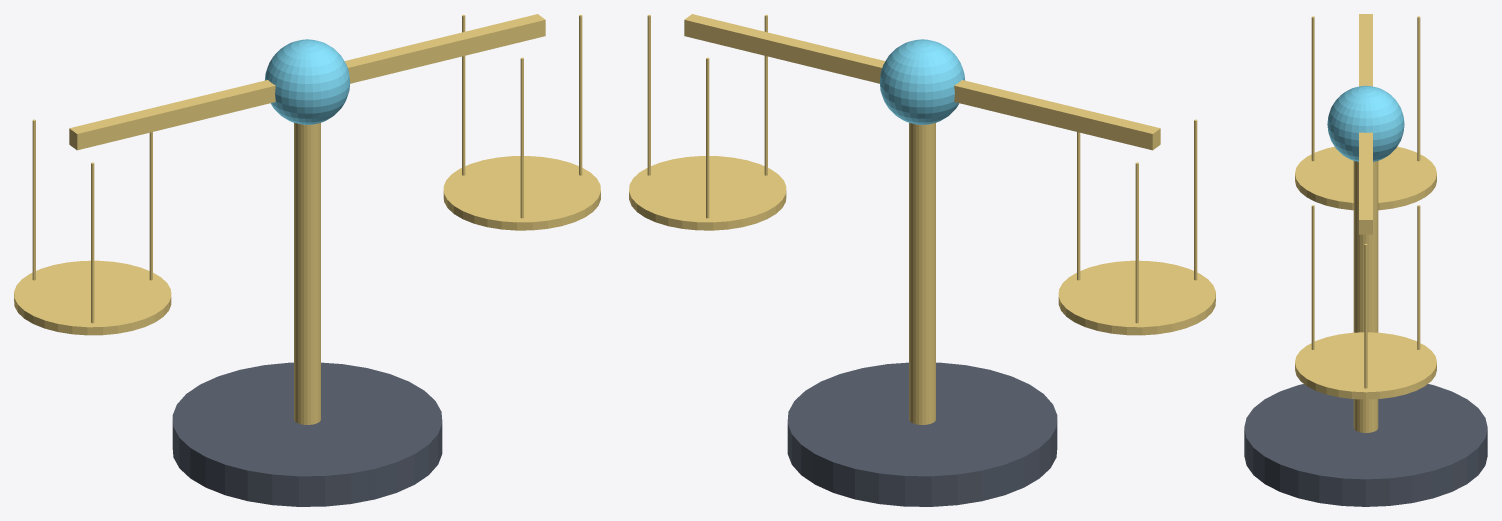
File: dissonance_scale.glb
The picture shows the model from 3 angles, left to right: view 1: azimuth 30°, elevation 25°; view 2: azimuth 150°, elevation 25°; view 3: azimuth 270°, elevation 25°; orthographic projection. The views are drawn at different scales.
Visible parts, largest first — view 1: Scale_Base, Balance_Beam, Pan_Belief, Pan_Behavior, Scale_Pillar, Fulcrum_Core, Chain_L_4.2, Chain_R_4.2, Chain_L_2.1, Chain_R_0.0; view 2: Scale_Base, Balance_Beam, Pan_Belief, Pan_Behavior, Scale_Pillar, Fulcrum_Core, Chain_L_2.1, Chain_R_2.1, Chain_L_4.2, Chain_R_0.0; view 3: Scale_Base, Pan_Behavior, Pan_Belief, Fulcrum_Core, Scale_Pillar, Balance_Beam, Chain_L_2.1, Chain_L_4.2, Chain_R_2.1, Chain_R_4.2, Chain_R_0.0.
Boxes of the visible parts, bbox=[...] form: Scale_Base: bbox=[172, 362, 442, 506]; Balance_Beam: bbox=[69, 14, 545, 150]; Pan_Belief: bbox=[14, 260, 171, 335]; Pan_Behavior: bbox=[443, 156, 600, 230]; Scale_Pillar: bbox=[294, 123, 320, 424]; Fulcrum_Core: bbox=[265, 39, 350, 124]; Chain_L_4.2: bbox=[91, 162, 94, 323]; Chain_R_4.2: bbox=[520, 57, 523, 218]; Chain_L_2.1: bbox=[32, 119, 35, 280]; Chain_R_0.0: bbox=[579, 14, 582, 175]; Scale_Base: bbox=[787, 362, 1057, 506]; Balance_Beam: bbox=[684, 14, 1160, 150]; Pan_Belief: bbox=[1058, 260, 1215, 335]; Pan_Behavior: bbox=[629, 156, 786, 230]; Scale_Pillar: bbox=[909, 123, 935, 424]; Fulcrum_Core: bbox=[879, 39, 964, 124]; Chain_L_2.1: bbox=[1135, 162, 1138, 323]; Chain_R_2.1: bbox=[706, 57, 709, 218]; Chain_L_4.2: bbox=[1194, 119, 1197, 280]; Chain_R_0.0: bbox=[647, 14, 650, 175]; Scale_Base: bbox=[1244, 384, 1487, 506]; Pan_Behavior: bbox=[1295, 332, 1436, 399]; Pan_Belief: bbox=[1295, 146, 1436, 210]; Fulcrum_Core: bbox=[1327, 85, 1404, 161]; Scale_Pillar: bbox=[1353, 161, 1378, 432]; Balance_Beam: bbox=[1359, 14, 1372, 234]; Chain_L_2.1: bbox=[1417, 16, 1420, 161]; Chain_L_4.2: bbox=[1311, 16, 1314, 161]; Chain_R_2.1: bbox=[1417, 205, 1420, 349]; Chain_R_4.2: bbox=[1311, 205, 1314, 349]; Chain_R_0.0: bbox=[1364, 244, 1367, 388].
Size of the model in its own units: 5.8 by 3.98 by 2.4.
